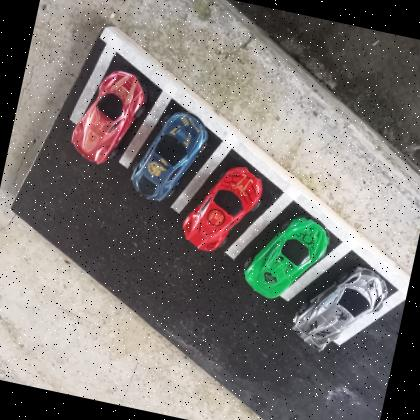Car: (288, 255, 392, 365), (239, 206, 333, 308), (178, 156, 266, 260), (128, 102, 212, 209), (67, 63, 149, 172)
